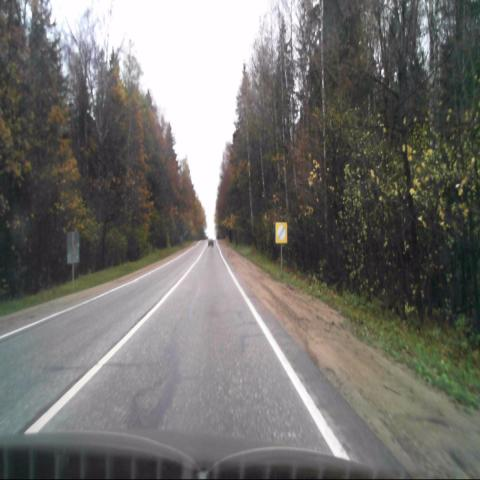3_31: (275, 222, 287, 243)
